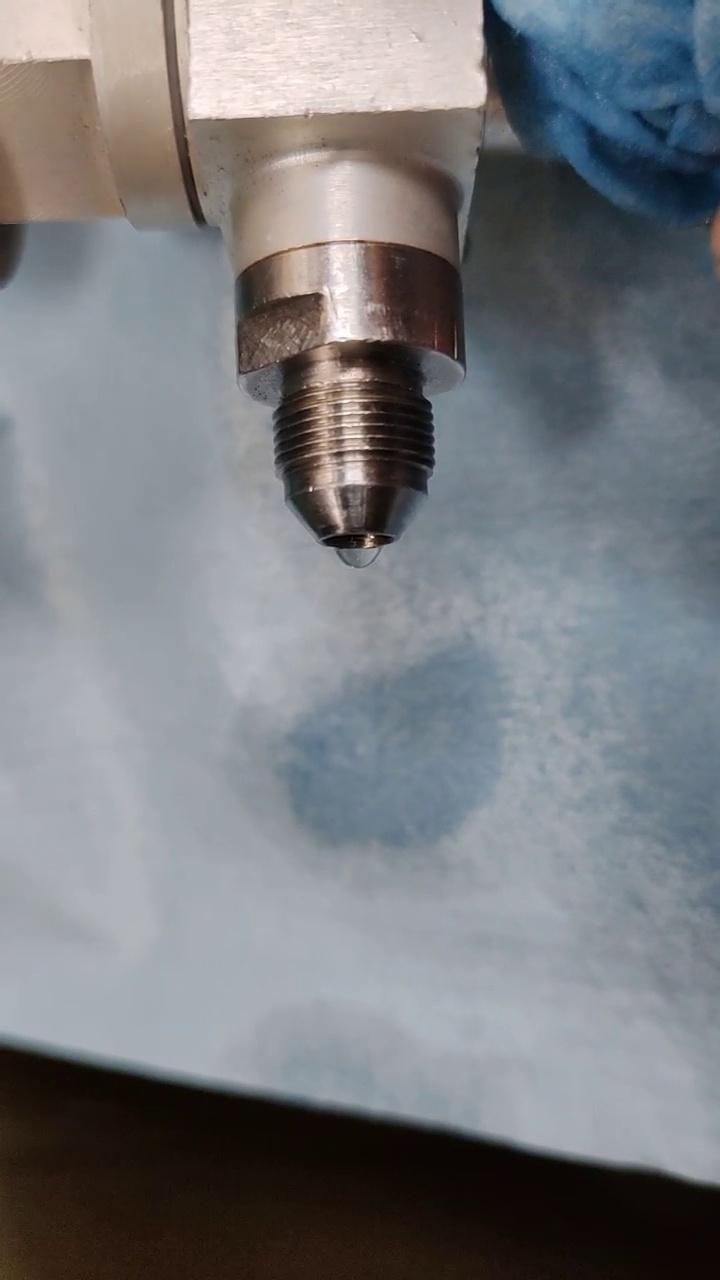water drop: (335, 539, 380, 568)
